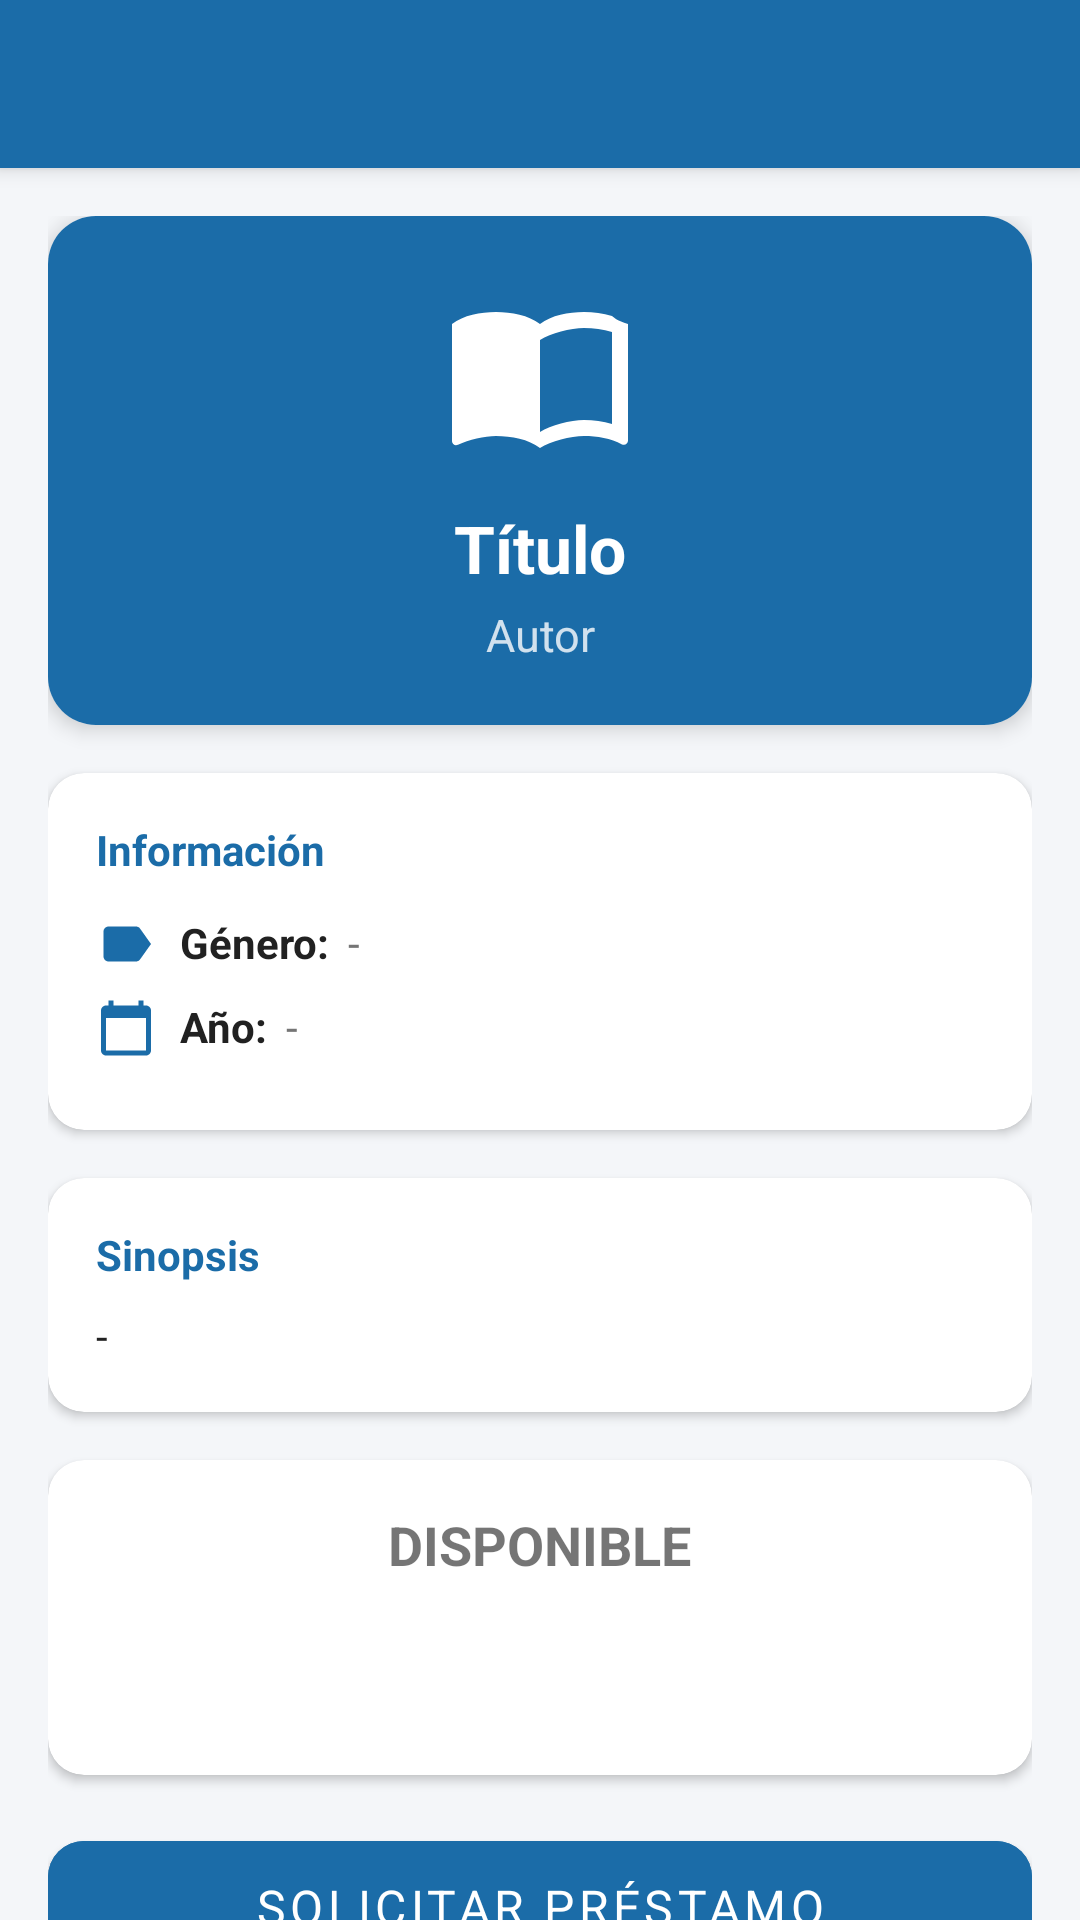

Point at icon controls on the screen. Image size 1080×1920, points as (x=x, y=y).
calendar: (x=126, y=1028)
genre: (x=127, y=944)
Libro: (x=540, y=380)
